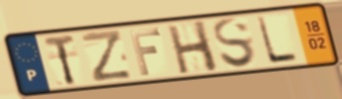F: (127, 27, 163, 78)
H: (164, 19, 221, 76)
L: (254, 15, 301, 66)
S: (211, 16, 259, 70)
T: (41, 32, 78, 88)
Z: (78, 28, 135, 85)
